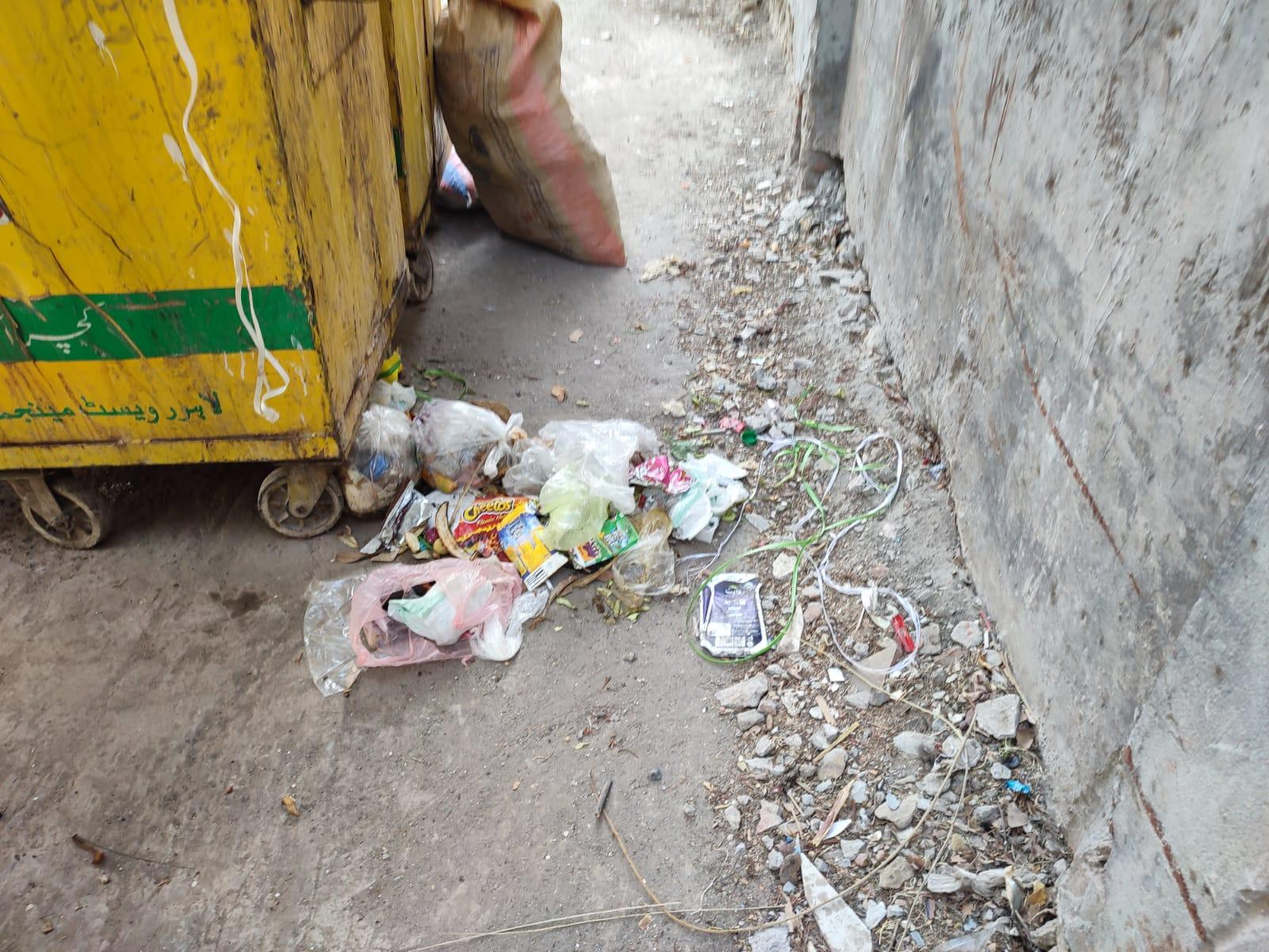garbage: (237, 340, 799, 702)
